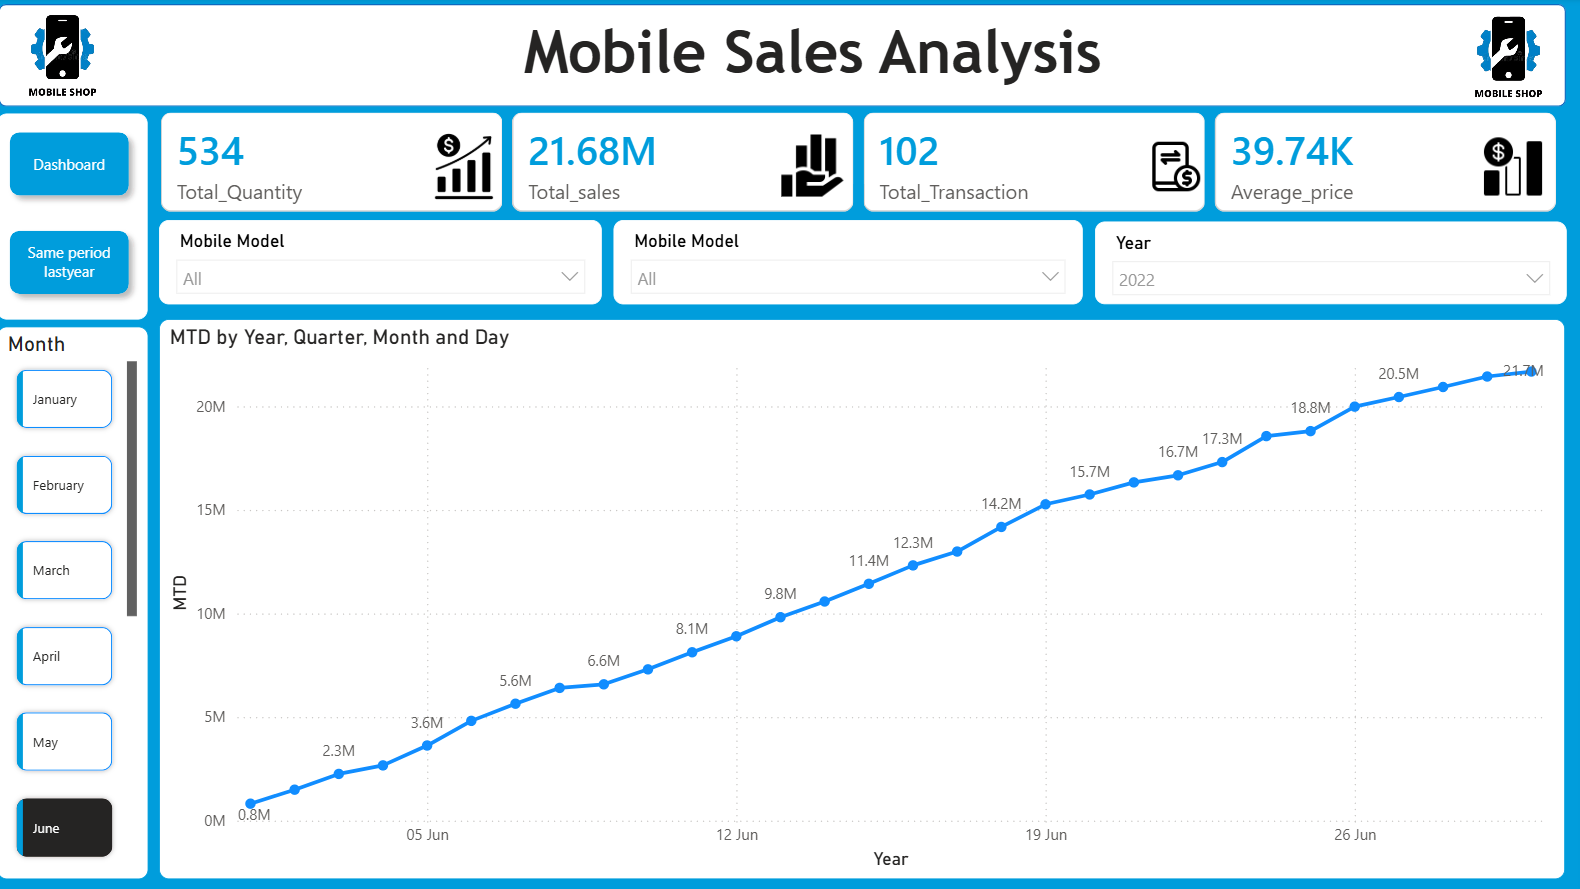

This screenshot's page, from the dashboard's own definition file:
{"tool":"powerbi","page":{"name":"MTD ","canvas":[1280,720],"ordinal":1},"visuals":[{"type":"shape","box":[6,4.7,1262.7,82.7],"z":0},{"type":"slicer","fields":{"Values":["mobile_Sales.Mobile Model"]},"box":[135.6,178.9,356.7,67.8],"z":1000},{"type":"slicer","fields":{"Values":["mobile_Sales.Mobile Model"]},"box":[501.1,178.9,377.8,67.8],"z":2000},{"type":"slicer","fields":{"Values":["Custom calander.Date.Variation.Date Hierarchy.Year"]},"box":[888.9,180,380,66.7],"z":3000},{"type":"cardVisual","fields":{"Data":["mobile_Sales.Total_Quantity","mobile_Sales.Total_sales","mobile_Sales.Total_Transaction","mobile_Sales.Average_price"]},"box":[120,75,1160,114],"z":4000},{"type":"textbox","box":[318.6,10,685.7,115.7],"z":5000},{"type":"image","box":[1201.4,102.9,50,65.7],"z":6000},{"type":"image","box":[618.6,110,85.7,50],"z":7000},{"type":"image","box":[348.6,108.6,65.7,54.3],"z":8000},{"type":"image","box":[932.9,98.6,42.9,72.9],"z":9000},{"type":"shape","box":[5,92.5,121.5,166],"z":10000},{"type":"lineChart","fields":{"Y":["mobile_Sales.MTD"],"Category":["Custom calander.Date.Variation.Date Hierarchy.Year","Custom calander.Date.Variation.Date Hierarchy.Quarter","Custom calander.Date.Variation.Date Hierarchy.Month","Custom calander.Date.Variation.Date Hierarchy.Day"]},"box":[135.7,258.6,1132.9,451.4],"z":11000},{"type":"advancedSlicerVisual","fields":{"Values":["Custom calander.Date.Variation.Date Hierarchy.Month"]},"box":[5,264.5,122,445.5],"z":12000},{"type":"pageNavigator","box":[6,99.1,114.8,149.8],"z":13000},{"type":"image","box":[0,8.8,115,73.8],"z":14000},{"type":"image","box":[1165,10,115,73.8],"z":15000}]}

Visuals, with their boxes in screenshot pixels (x1, y1, x2, y2), scaled from the page's 1280x720 canvas onto the 1580x889 screenshot:
shape: crop(7, 6, 1566, 108)
slicer - mobile_Sales.Mobile Model: crop(167, 221, 608, 305)
slicer - mobile_Sales.Mobile Model: crop(619, 221, 1085, 305)
slicer - Custom calander.Date.Variation.Date Hierarchy.Year: crop(1097, 222, 1566, 305)
cardVisual - mobile_Sales.Total_Quantity x mobile_Sales.Total_sales: crop(148, 93, 1579, 233)
textbox: crop(393, 12, 1240, 155)
image: crop(1483, 127, 1545, 208)
image: crop(764, 136, 869, 198)
image: crop(430, 134, 511, 201)
image: crop(1152, 122, 1205, 212)
shape: crop(6, 114, 156, 319)
lineChart - mobile_Sales.MTD x Custom calander.Date.Variation.Date Hierarchy.Year: crop(168, 319, 1566, 877)
advancedSlicerVisual - Custom calander.Date.Variation.Date Hierarchy.Month: crop(6, 327, 157, 877)
pageNavigator: crop(7, 122, 149, 307)
image: crop(0, 11, 142, 102)
image: crop(1438, 12, 1579, 103)
